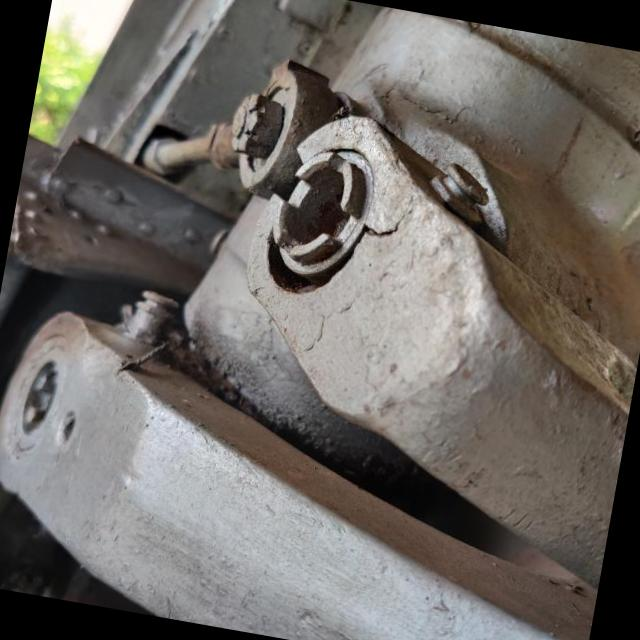Crack: (363, 210, 405, 243)
